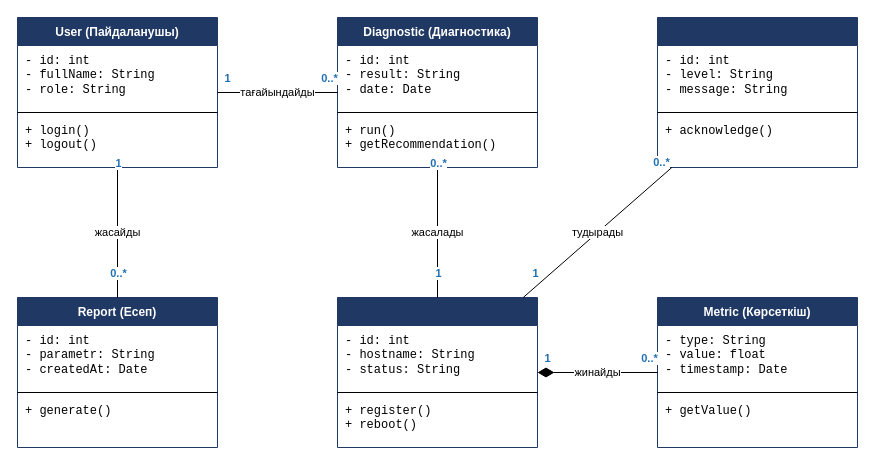
Some shapes in this 875 by 465 pixel diagram are drawn without their labels. Each missing label, with the box of its shape:
Alert (Ескерту): (656, 16, 858, 168)
Device (Құрылғы): (336, 296, 538, 448)
